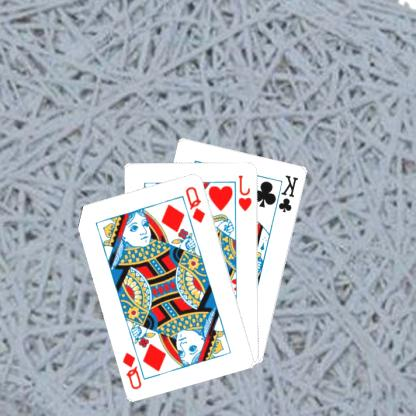JH: (238, 172, 255, 212)
KC: (273, 172, 301, 215)
QD: (184, 183, 208, 224), (121, 349, 145, 390)
